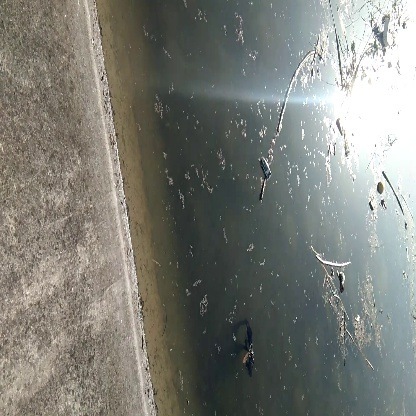branch: (272, 50, 320, 135), (310, 238, 362, 271)
